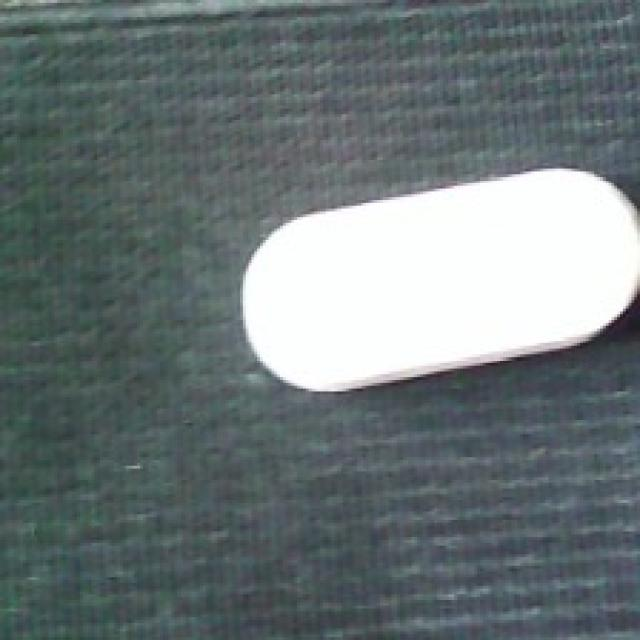no-defect: (237, 164, 640, 392)
